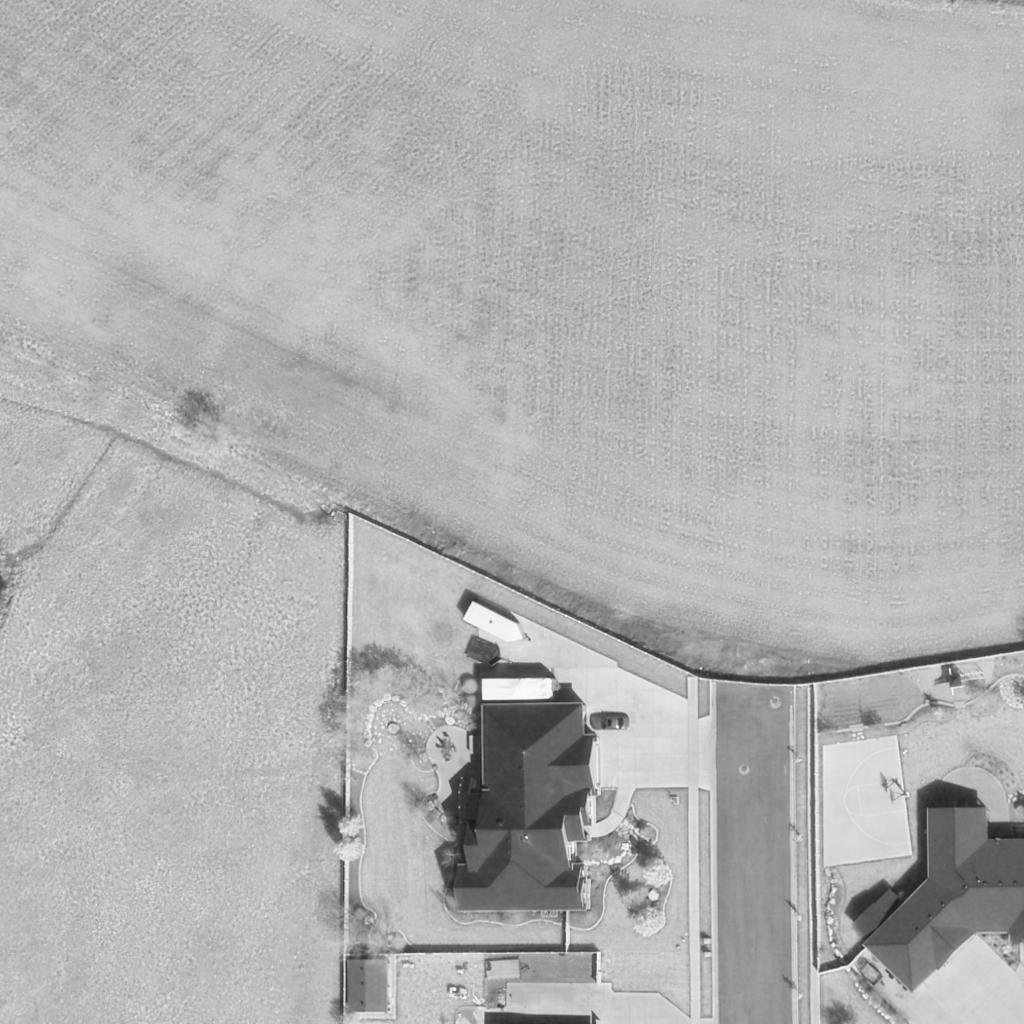vehicle: (462, 599, 534, 651), (481, 677, 567, 701), (590, 714, 630, 730)
